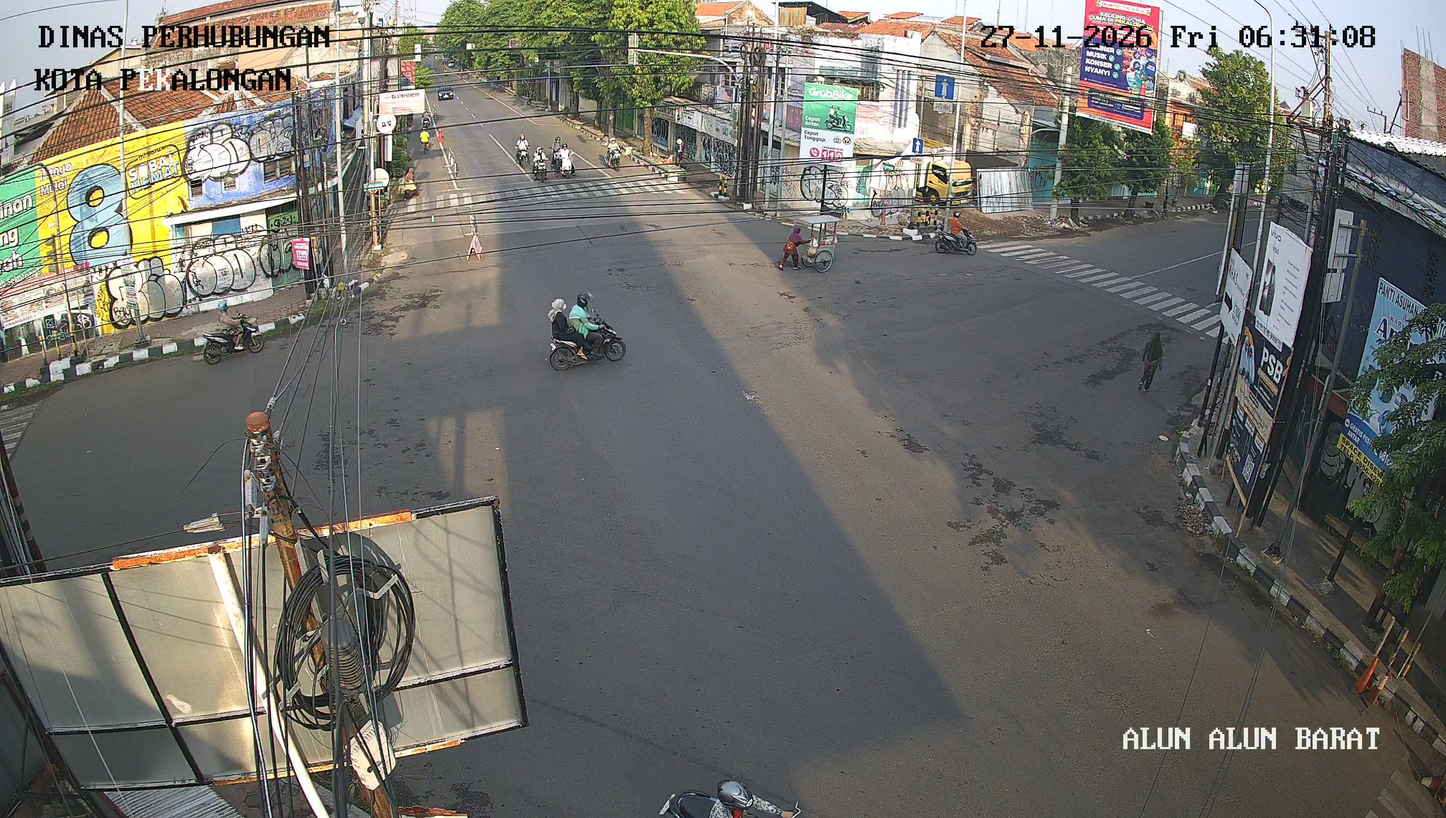Gerobak: (778, 214, 842, 271)
